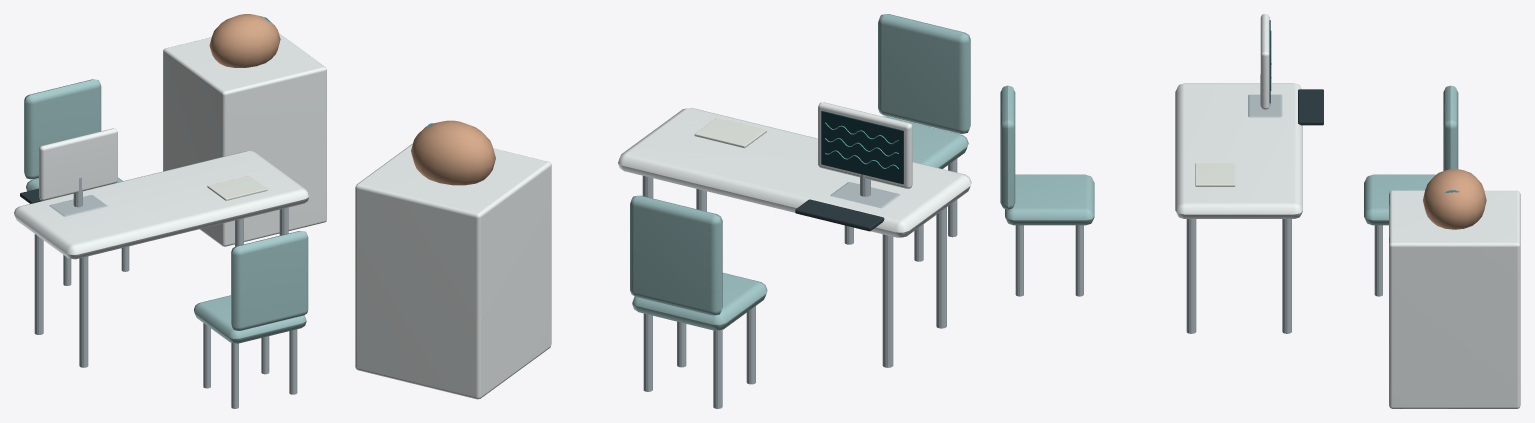
Rendered from neuro.glb.
The picture shows the model from 3 angles, left to right: view 1: azimuth 30°, elevation 25°; view 2: azimuth 150°, elevation 25°; view 3: azimuth 270°, elevation 25°; orthographic projection. The views are drawn at different scales.
Visible parts, largest first — view 1: Rounded consultation desk.001, PhysicianChair cushion.001, Desk support.001, Original fictional brain model, Paper notes.001; view 2: Rounded consultation desk.001, PhysicianChair cushion.001, Desk support.001, Physician fictional display.001, Original fictional brain model, Physician keyboard.001, Paper notes.001; view 3: Rounded consultation desk.001, PhysicianChair cushion.001, Desk support.001, Original fictional brain model, Paper notes.001, Physician keyboard.001.
Boxes of the visible parts, left/top/right/bottom form: Rounded consultation desk.001: left=14, top=33, right=326, bottom=259; PhysicianChair cushion.001: left=24, top=79, right=308, bottom=343; Desk support.001: left=34, top=177, right=297, bottom=408; Original fictional brain model: left=209, top=14, right=280, bottom=67; Paper notes.001: left=207, top=175, right=267, bottom=200; Rounded consultation desk.001: left=355, top=102, right=971, bottom=399; PhysicianChair cushion.001: left=630, top=14, right=970, bottom=330; Desk support.001: left=642, top=159, right=957, bottom=408; Physician fictional display.001: left=821, top=111, right=903, bottom=184; Original fictional brain model: left=411, top=120, right=495, bottom=185; Physician keyboard.001: left=795, top=199, right=884, bottom=231; Paper notes.001: left=694, top=118, right=766, bottom=148; Rounded consultation desk.001: left=1175, top=14, right=1520, bottom=408; PhysicianChair cushion.001: left=1000, top=85, right=1458, bottom=225; Desk support.001: left=1015, top=74, right=1382, bottom=333; Original fictional brain model: left=1423, top=169, right=1486, bottom=229; Paper notes.001: left=1195, top=163, right=1235, bottom=186; Physician keyboard.001: left=1298, top=89, right=1323, bottom=125.
Bounding box in the file's own units: 2.21 × 1.2 × 2.61.
